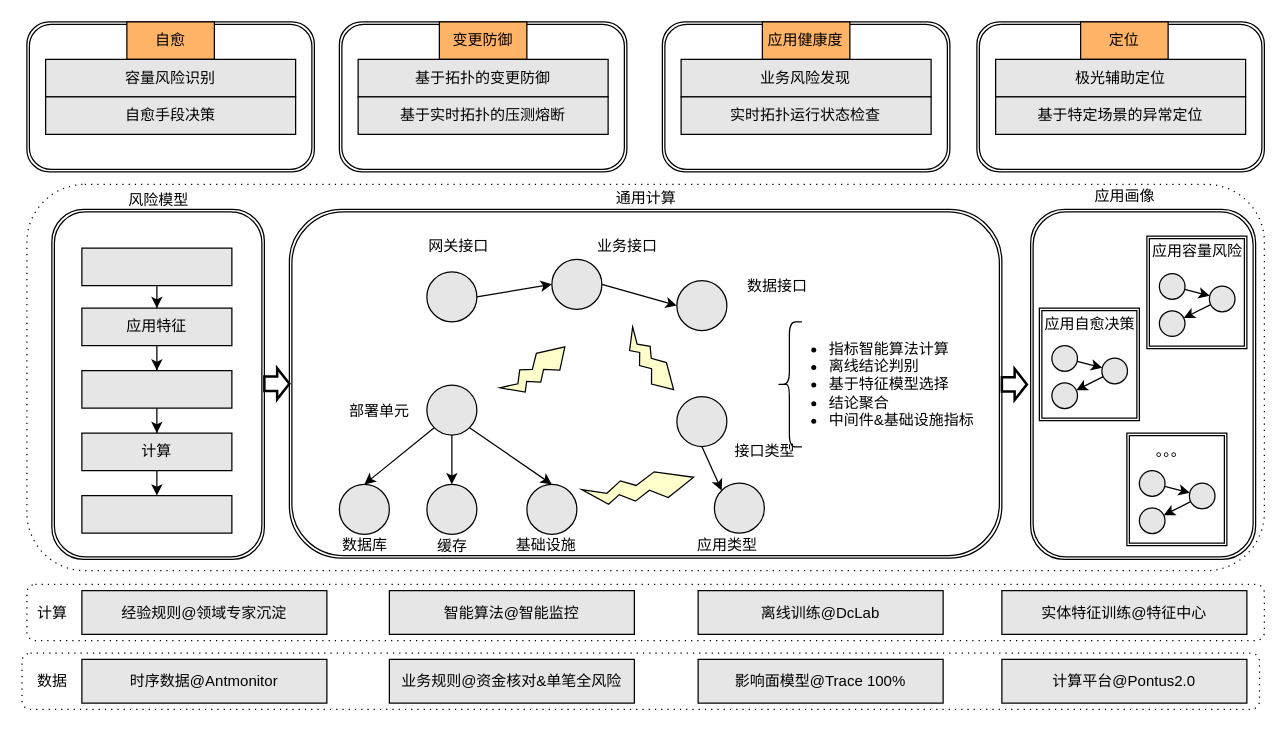
Some shapes in this 1286 by 731 pixel diagram are drawn without their labels. The shapes that lost their labels are listed below. From the top down, each one's centre as x and y in pixels, then its label:
the point at 156,266: 场景定义
the point at 156,388: 影响面拓扑模型
the point at 156,513: 指标&影响面
